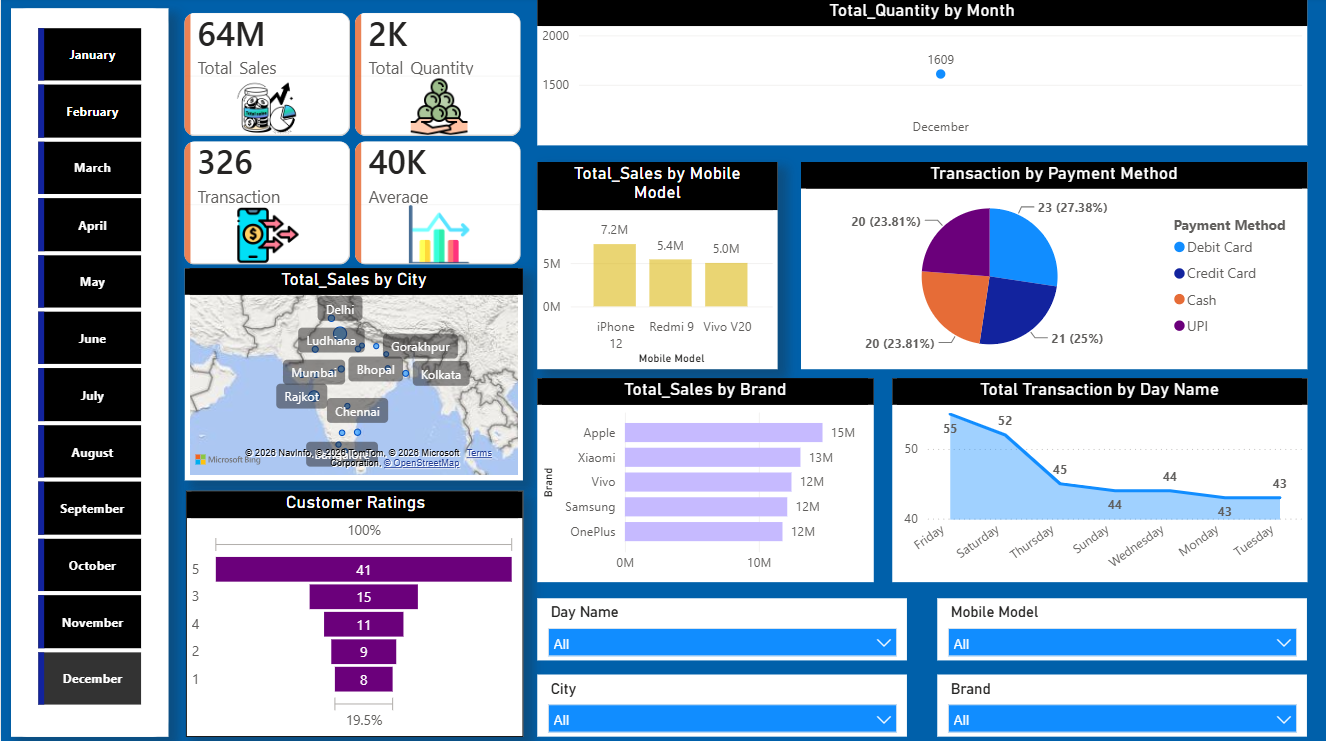

The dashboard page shown, as its layout file describes it:
{"tool":"powerbi","page":{"name":"First_Dashboard","canvas":[1280,720],"ordinal":0},"visuals":[{"type":"shape","box":[9.7,10.9,152,703.4],"z":0},{"type":"slicer","fields":{"Values":["Mobile_Sales_Data.Date.Variation.Date Hierarchy.Month"]},"box":[9.7,22.9,149.6,667.2],"z":1000},{"type":"cardVisual","fields":{"Data":["Mobile_Sales_Data.Total_Sales","Mobile_Sales_Data.Total_Quantity","Mobile_Sales_Data.Transaction","Mobile_Sales_Data.Average"]},"box":[161.9,0,355.4,273.1],"z":2000},{"type":"map","fields":{"Category":["Mobile_Sales_Data.City"],"Size":["Mobile_Sales_Data.Total_Sales"]},"box":[177,262.1,326.6,204.5],"z":3000},{"type":"lineChart","fields":{"Y":["Mobile_Sales_Data.Total_Quantity"],"Category":["Mobile_Sales_Data.Date.Variation.Date Hierarchy.Month","Mobile_Sales_Data.Date.Variation.Date Hierarchy.Day"]},"box":[517.6,2.4,743.2,141.2],"z":4000},{"type":"clusteredColumnChart","fields":{"Category":["Mobile_Sales_Data.Mobile Model"],"Y":["Mobile_Sales_Data.Total_Sales"]},"box":[517.3,159.2,231.9,200.3],"z":5000},{"type":"pieChart","fields":{"Y":["Mobile_Sales_Data.Transaction"],"Category":["Mobile_Sales_Data.Payment Method"]},"box":[772.6,159.2,488.5,200.3],"z":6000},{"type":"funnel","title":"Customer Ratings","fields":{"Category":["Mobile_Sales_Data.Customer Ratings"],"Y":["CountNonNull(Mobile_Sales_Data.Customer Ratings)"]},"box":[178.6,476.5,325.7,237.7],"z":7000},{"type":"clusteredBarChart","fields":{"Category":["Mobile_Sales_Data.Brand"],"Y":["Mobile_Sales_Data.Total_Sales"]},"box":[517.6,368,324.5,196.6],"z":8000},{"type":"areaChart","title":"Total Transaction by Day Name","fields":{"Category":["Mobile_Sales_Data.Day Name"],"Y":["Mobile_Sales_Data.Transaction"]},"box":[860.2,368,400.5,196.6],"z":9000},{"type":"slicer","fields":{"Values":["Mobile_Sales_Data.City"]},"box":[517.6,653.9,357.1,60.3],"z":10000},{"type":"slicer","fields":{"Values":["Mobile_Sales_Data.Brand"]},"box":[903.6,653.9,357.1,60.3],"z":11000},{"type":"slicer","fields":{"Values":["Mobile_Sales_Data.Mobile Model"]},"box":[903.6,580.3,357.1,60.3],"z":12000},{"type":"slicer","fields":{"Values":["Mobile_Sales_Data.Day Name"]},"box":[517.6,580.3,357.1,60.3],"z":13000}]}

Visuals, with their boxes in screenshot pixels (x1, y1, x2, y2), scaled from the page's 1280x720 canvas onto the 1326x741 screenshot:
shape: locate(10, 11, 168, 735)
slicer - Mobile_Sales_Data.Date.Variation.Date Hierarchy.Month: locate(10, 24, 165, 710)
cardVisual - Mobile_Sales_Data.Total_Sales x Mobile_Sales_Data.Total_Quantity: locate(168, 0, 536, 281)
map - Mobile_Sales_Data.City x Mobile_Sales_Data.Total_Sales: locate(183, 270, 522, 480)
lineChart - Mobile_Sales_Data.Total_Quantity x Mobile_Sales_Data.Date.Variation.Date Hierarchy.Month: locate(536, 2, 1306, 148)
clusteredColumnChart - Mobile_Sales_Data.Mobile Model x Mobile_Sales_Data.Total_Sales: locate(536, 164, 776, 370)
pieChart - Mobile_Sales_Data.Transaction x Mobile_Sales_Data.Payment Method: locate(800, 164, 1306, 370)
"Customer Ratings" funnel: locate(185, 490, 522, 735)
clusteredBarChart - Mobile_Sales_Data.Brand x Mobile_Sales_Data.Total_Sales: locate(536, 379, 872, 581)
"Total Transaction by Day Name" areaChart: locate(891, 379, 1306, 581)
slicer - Mobile_Sales_Data.City: locate(536, 673, 906, 735)
slicer - Mobile_Sales_Data.Brand: locate(936, 673, 1306, 735)
slicer - Mobile_Sales_Data.Mobile Model: locate(936, 597, 1306, 659)
slicer - Mobile_Sales_Data.Day Name: locate(536, 597, 906, 659)
